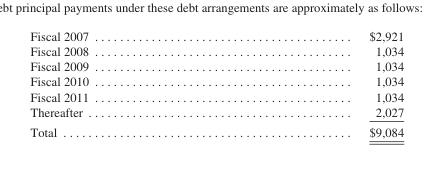table: (29, 28, 403, 138)
table column: (29, 28, 228, 138), (228, 28, 403, 138)
table row: (29, 103, 403, 121), (29, 121, 403, 138), (29, 28, 403, 43), (29, 43, 403, 58), (29, 58, 403, 73), (29, 73, 403, 88), (29, 88, 403, 103)
